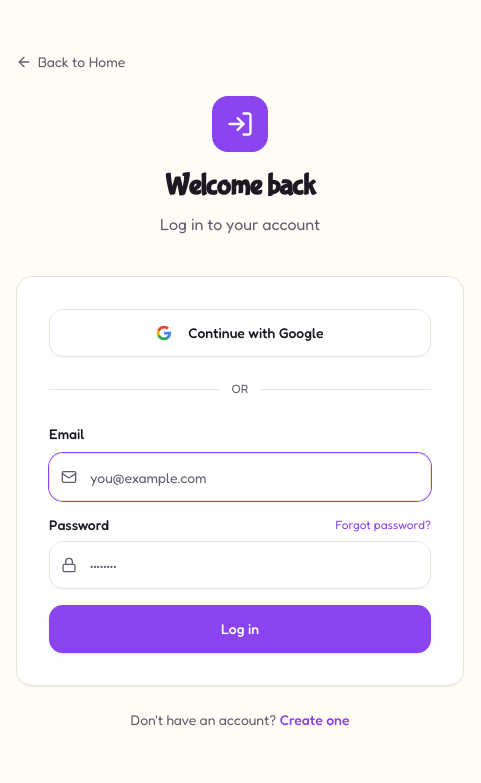
Test: Login › reports a reachability problem when the network fails
Step 1. Type "a@b.c" into the field labelled "Email" → (240, 477), box [49,453,431,501]
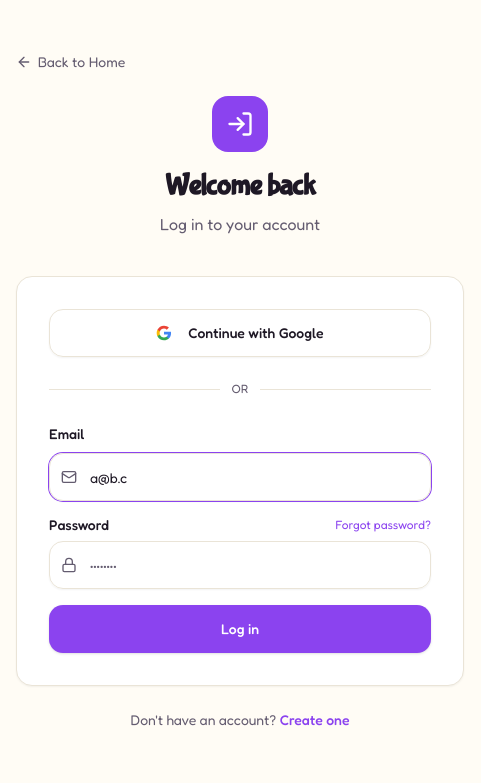
Step 2. Type "secret" into the password field labelled "Password" → (240, 565), box [49,541,431,589]
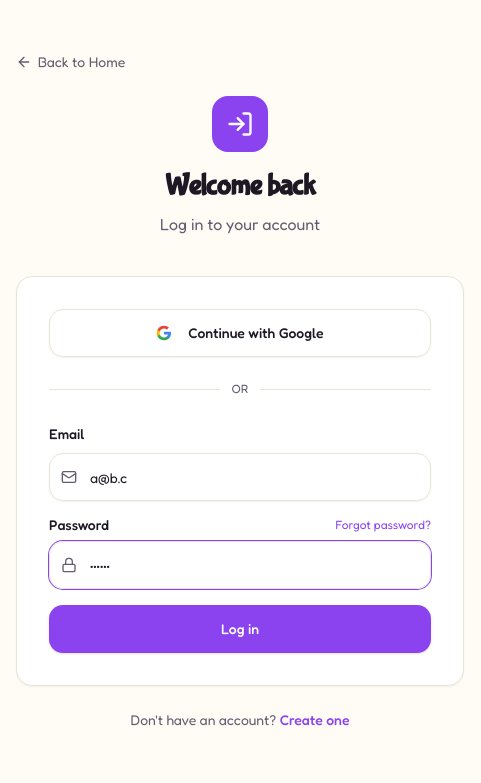
Step 3. Click the button "Log in" → (240, 629), box [49,605,431,653]
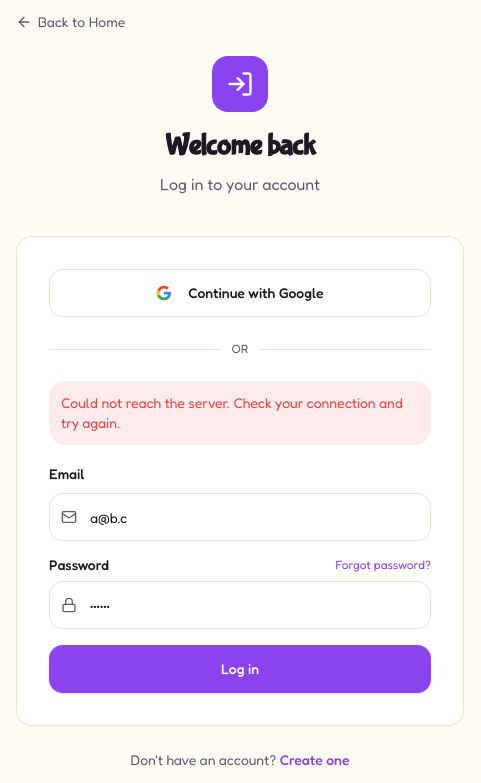
Expected: the text "Could not reach the server" is shown, [61,394,403,431]
